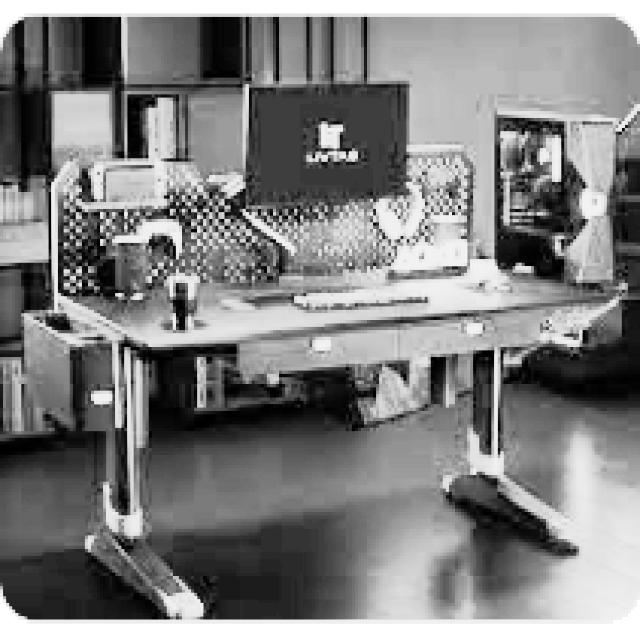table: (58, 263, 624, 613)
